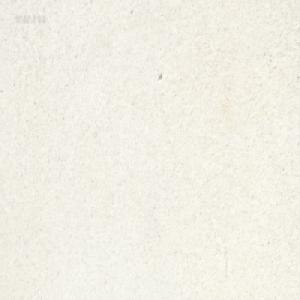Wrench: (203, 0, 210, 5)
